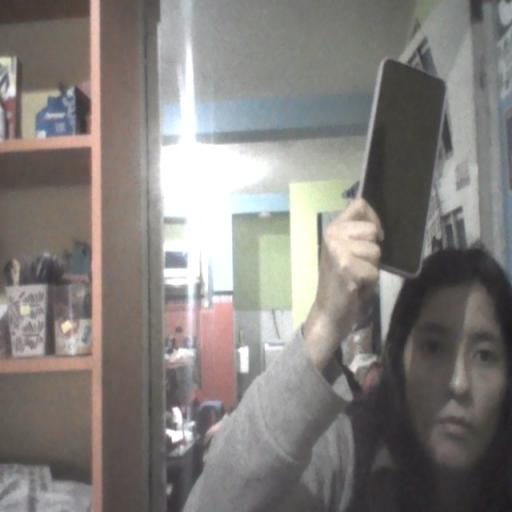phone: (353, 47, 453, 286)
